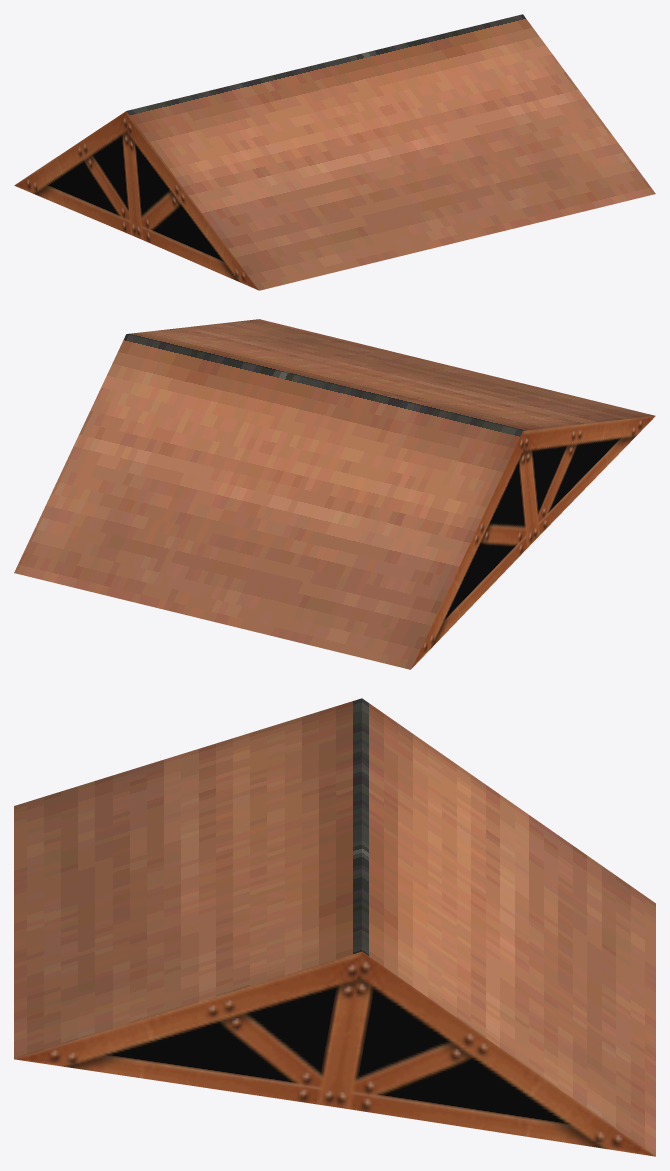
The model's file is truss02.glb.
3 views of the same model, one above another, from view 1: azimuth 30°, elevation 25°; view 2: azimuth 150°, elevation 25°; view 3: azimuth 270°, elevation 25° (orthographic). The views are drawn at different scales.
Visible parts, largest first — view 1: truss02; view 2: truss02; view 3: truss02.
Part boxes in pixels (box(x1,y1,x2,y2)): truss02: box(14, 14, 655, 290); truss02: box(14, 319, 655, 669); truss02: box(14, 698, 655, 1156).
Size of the model in its own units: 1309 by 495 by 1402.
2 materials, 2 textured.
